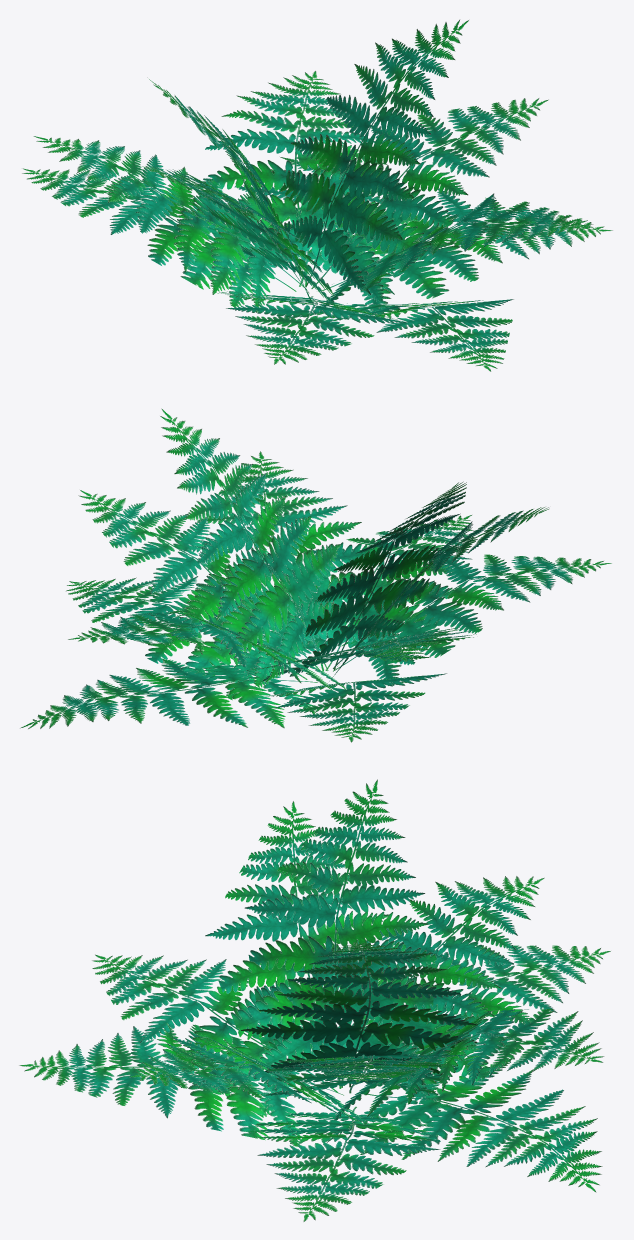
File: fern_1_dream.glb
3 renders of one model, top to bottom at view 1: azimuth 30°, elevation 25°; view 2: azimuth 150°, elevation 25°; view 3: azimuth 270°, elevation 25°, orthographic.
Parts seen in each view (by area): view 1: fern_1; view 2: fern_1; view 3: fern_1.
Boxes of the visible parts, box(x1,y1,x2,y2) form: fern_1: box(22, 19, 612, 371); fern_1: box(20, 408, 611, 742); fern_1: box(19, 779, 610, 1221).
Size of the model in its own units: 3.28 by 1.71 by 3.51.
1 material, 1 textured.
